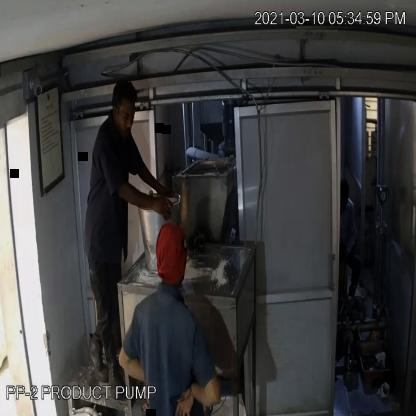no_glove: (113, 173, 171, 231)
